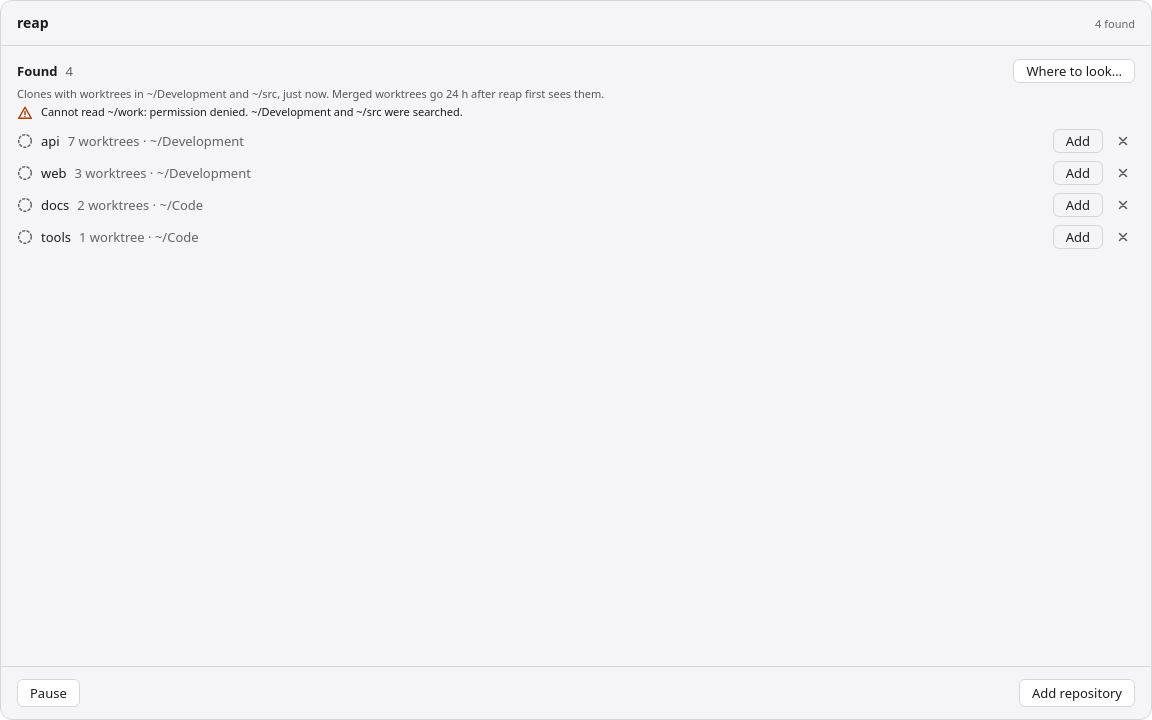
Test: Popover Where to look › says 1 clone in the singular, hides an empty Skipped, and shows a root's error in place of its count
Click the button "Where to look…": (1074, 71) [1014,59,1135,83]
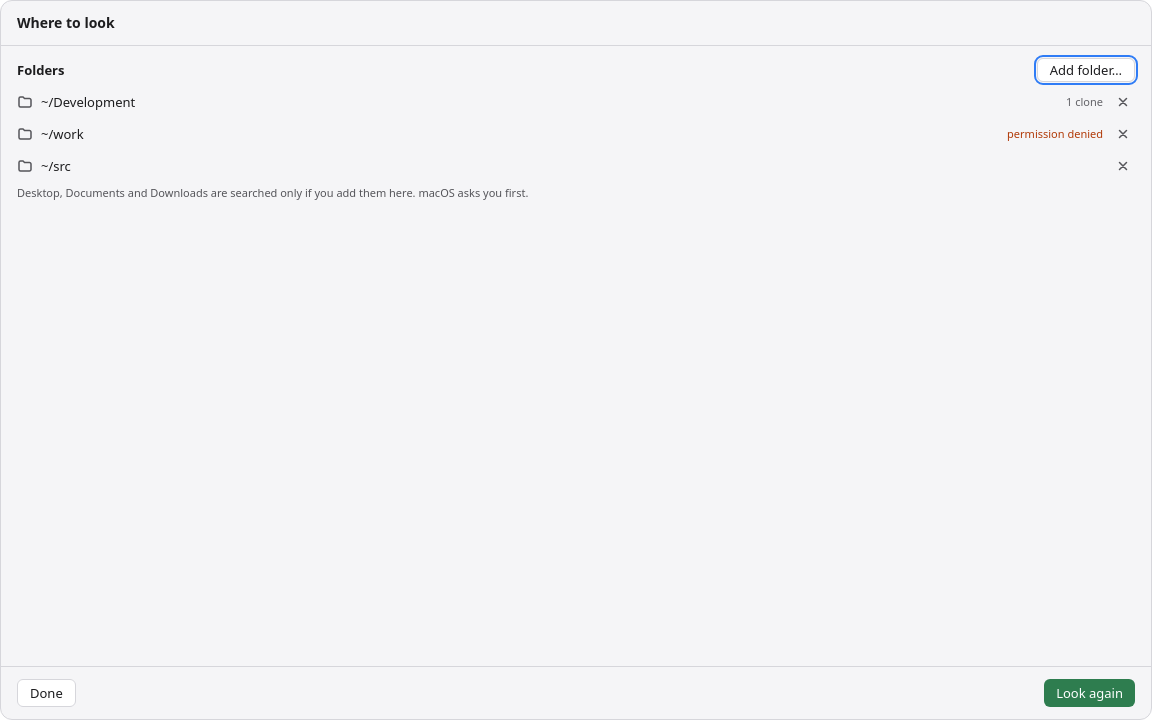
Check: the list items read "~/Development1 clone", "~/workpermission denied", "~/src", in this order, box [9,86,1143,118]; [9,118,1143,150]; [9,150,1143,182]
